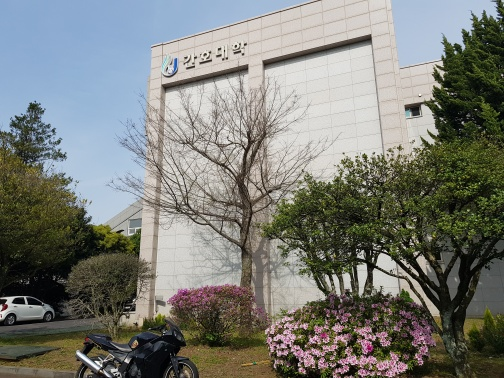College of Nursing: (138, 23, 493, 314), (154, 36, 252, 77)
